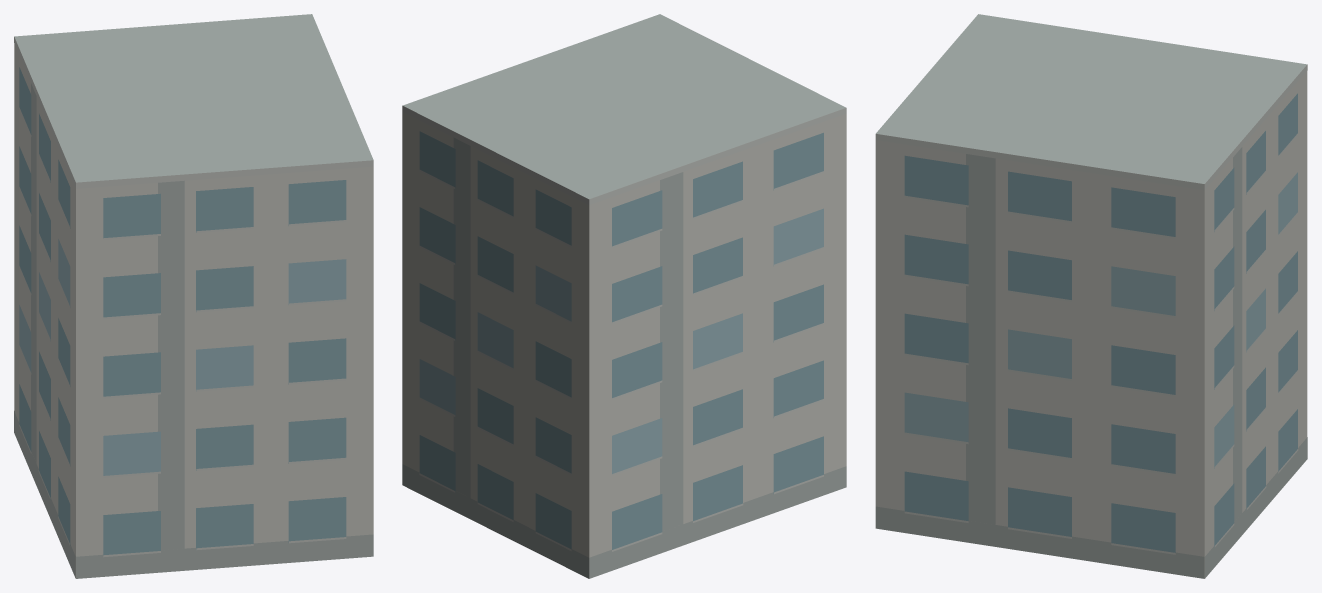
File: residential-81e0249a-7db8-4ecb-a570-77a1ebddfa4b.glb
3 renders of one model, left to right at view 1: azimuth 30°, elevation 25°; view 2: azimuth 150°, elevation 25°; view 3: azimuth 270°, elevation 25°, orthographic. The views are drawn at different scales.
Parts seen in each view (by area): view 1: residential-81e0249a-7db8-4ecb-a570-77a1ebddfa4b.tmp; view 2: residential-81e0249a-7db8-4ecb-a570-77a1ebddfa4b.tmp; view 3: residential-81e0249a-7db8-4ecb-a570-77a1ebddfa4b.tmp.
Part boxes in pixels (left/top/right/bottom): residential-81e0249a-7db8-4ecb-a570-77a1ebddfa4b.tmp: left=14, top=14, right=373, bottom=578; residential-81e0249a-7db8-4ecb-a570-77a1ebddfa4b.tmp: left=402, top=14, right=846, bottom=578; residential-81e0249a-7db8-4ecb-a570-77a1ebddfa4b.tmp: left=875, top=14, right=1307, bottom=578.
Bounding box in the file's own units: 14.11 × 15.25 × 15.13.
